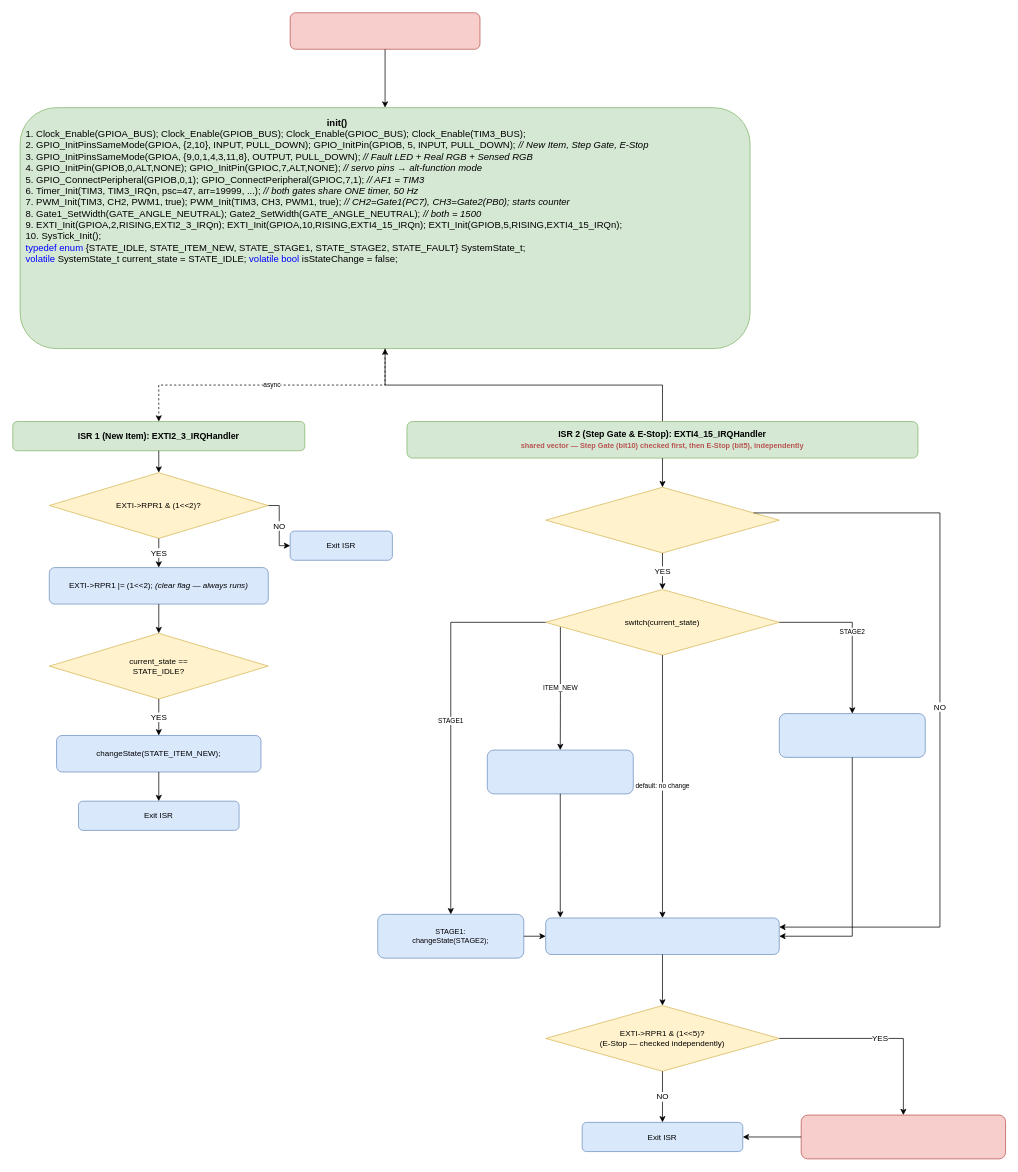
Image size: 1018x1172. Some labels were removed from this diagram. Here are the shapes that lost their labels. From the top down, the box of each, then its label:
(289, 12, 480, 49): System Power-Up
(545, 487, 779, 553): EXTI->RPR1 & (1<<10)? (Step Gate)
(779, 713, 925, 757): STAGE2: changeState(IDLE);
(487, 749, 633, 794): ITEM_NEW: changeState(STAGE1);
(545, 917, 779, 954): EXTI->RPR1 |= (1<<10); (only if bit10 was pending)
(800, 1114, 1006, 1159): changeState(STATE_FAULT); EXTI->RPR1 |= (1<<5);
